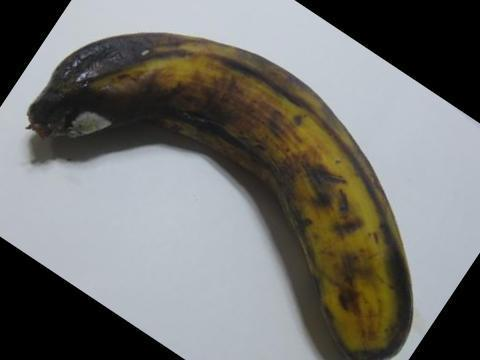overripe: (15, 22, 424, 359)
rotten: (28, 27, 175, 172)
